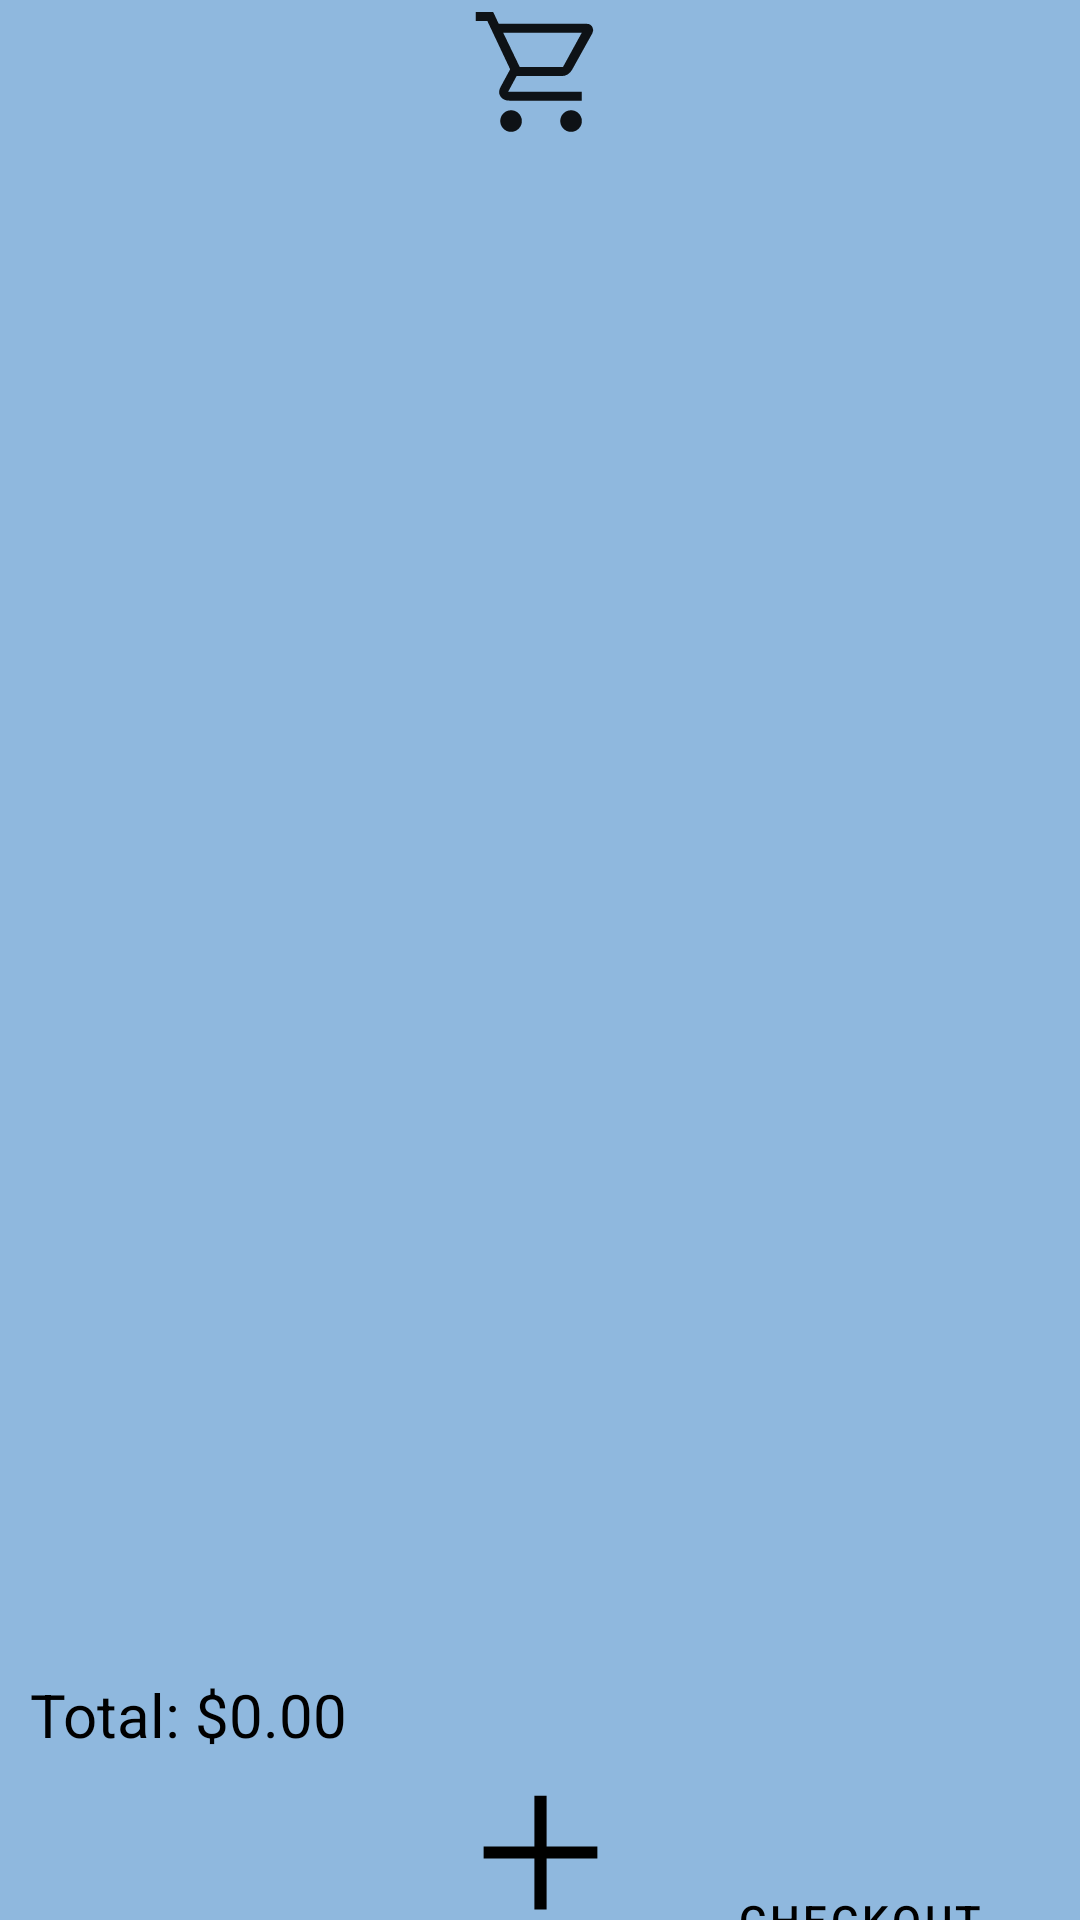

Icons on this 1080*1920 Android screen, each with its box as bbox(x1, y1, x2, y2):
add: bbox(483, 1795, 598, 1910)
shopping cart: bbox(475, 12, 594, 132)
